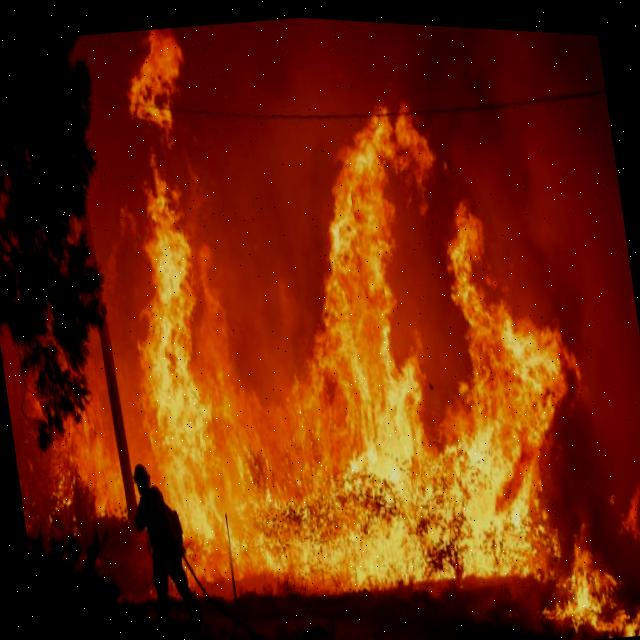fire: (140, 111, 571, 588), (16, 394, 124, 536), (553, 543, 640, 629), (129, 29, 182, 133), (618, 485, 640, 535)
smoke: (77, 14, 606, 477), (386, 88, 640, 565), (2, 339, 38, 455)
